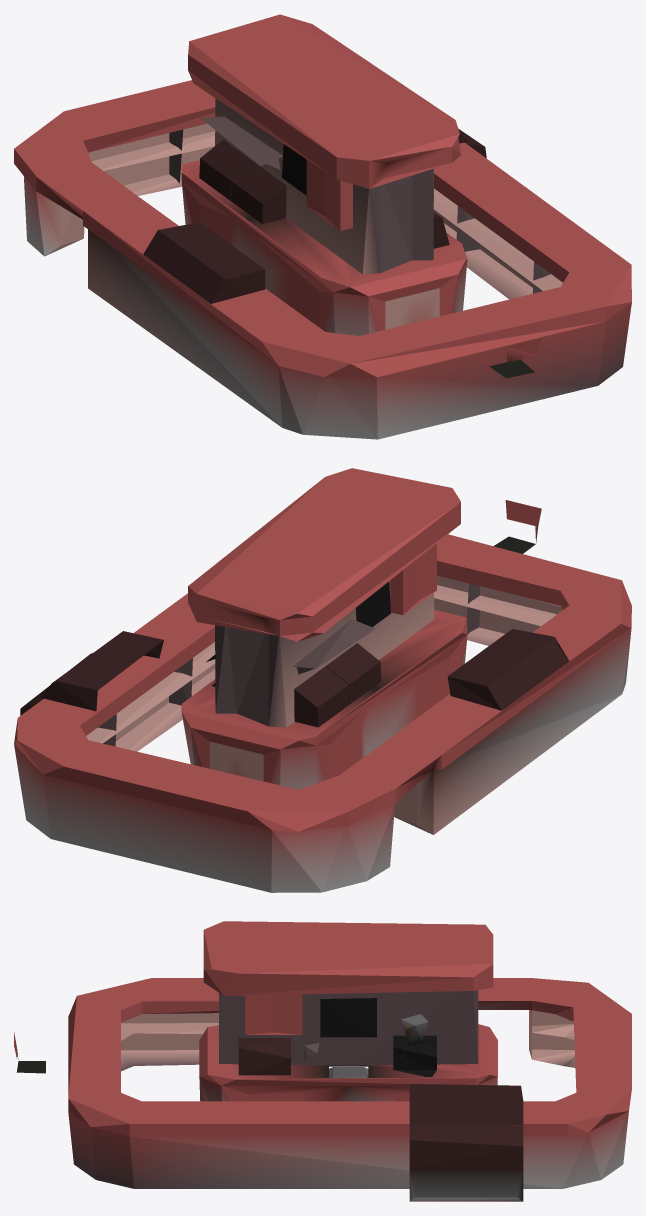
Rendered from kiosque-C0KgwKZr.glb.
3 views of the same model, one above another, from view 1: azimuth 30°, elevation 25°; view 2: azimuth 150°, elevation 25°; view 3: azimuth 270°, elevation 25° (orthographic). The views are drawn at different scales.
Parts seen in each view (by area): view 1: 13.Cafe_Cube.170; view 2: 13.Cafe_Cube.170; view 3: 13.Cafe_Cube.170.
Part boxes in pixels (x1,y1,x2,y2): 13.Cafe_Cube.170: (14, 14, 631, 439); 13.Cafe_Cube.170: (14, 468, 631, 892); 13.Cafe_Cube.170: (14, 921, 631, 1201).
Bounding box in the file's own units: 6.91 × 3.56 × 11.56.
